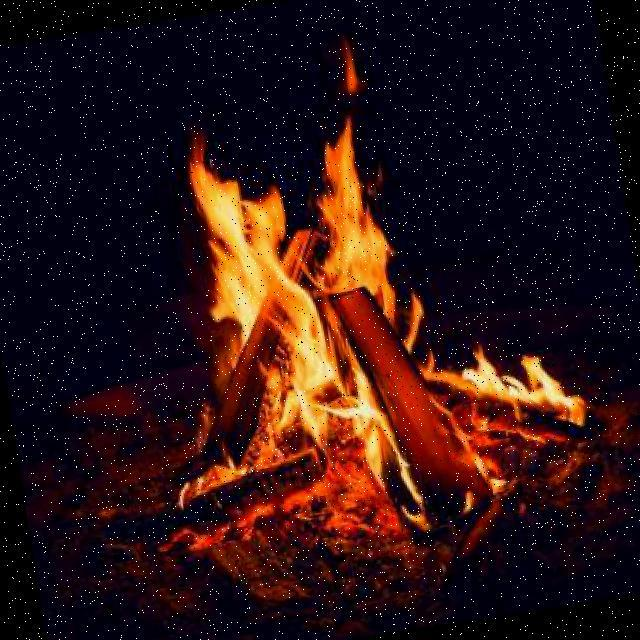Fire: (161, 36, 600, 547)
